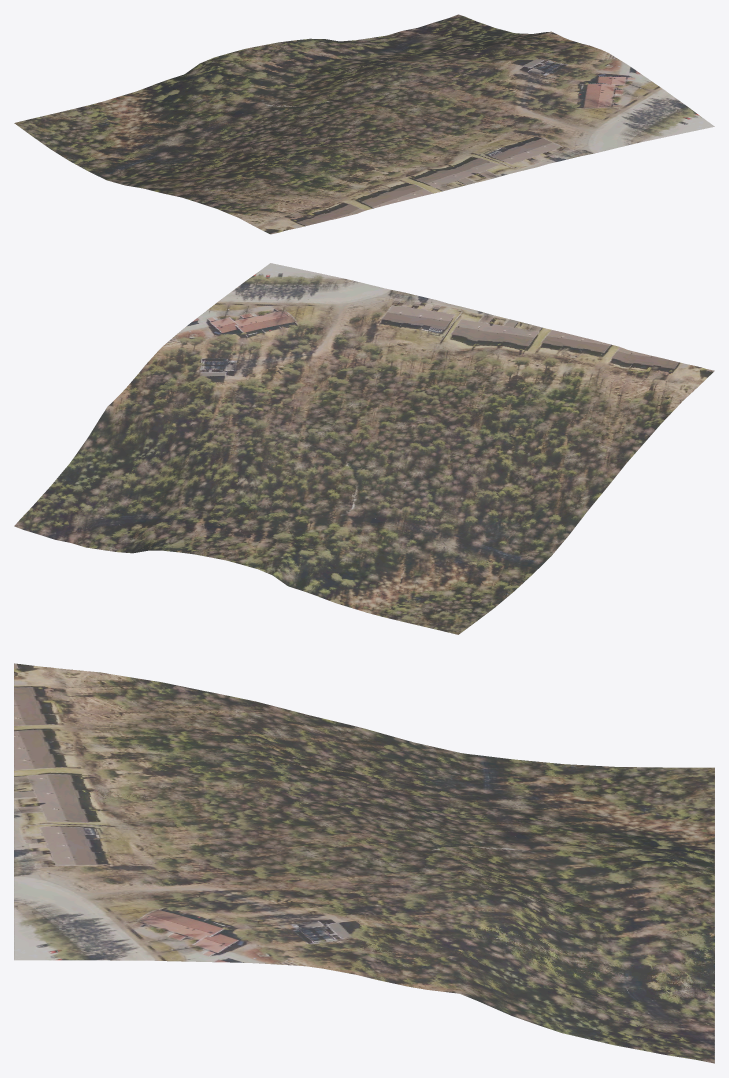
Rendered from CM_Terrain_24491073_6816312.fbx.
3 renders of one model, top to bottom at view 1: azimuth 30°, elevation 25°; view 2: azimuth 150°, elevation 25°; view 3: azimuth 270°, elevation 25°, orthographic. The views are drawn at different scales.
Parts seen in each view (by area): view 1: CM_Terrain_24491073_6816312_LOD0; view 2: CM_Terrain_24491073_6816312_LOD0; view 3: CM_Terrain_24491073_6816312_LOD0.
Boxes of the visible parts, x1,y1,x2,y2 form: CM_Terrain_24491073_6816312_LOD0: (14,14,714,234); CM_Terrain_24491073_6816312_LOD0: (14,263,714,634); CM_Terrain_24491073_6816312_LOD0: (14,663,714,1063).
Size of what is drawn, in the model's own units: 205 by 36.41 by 205.
